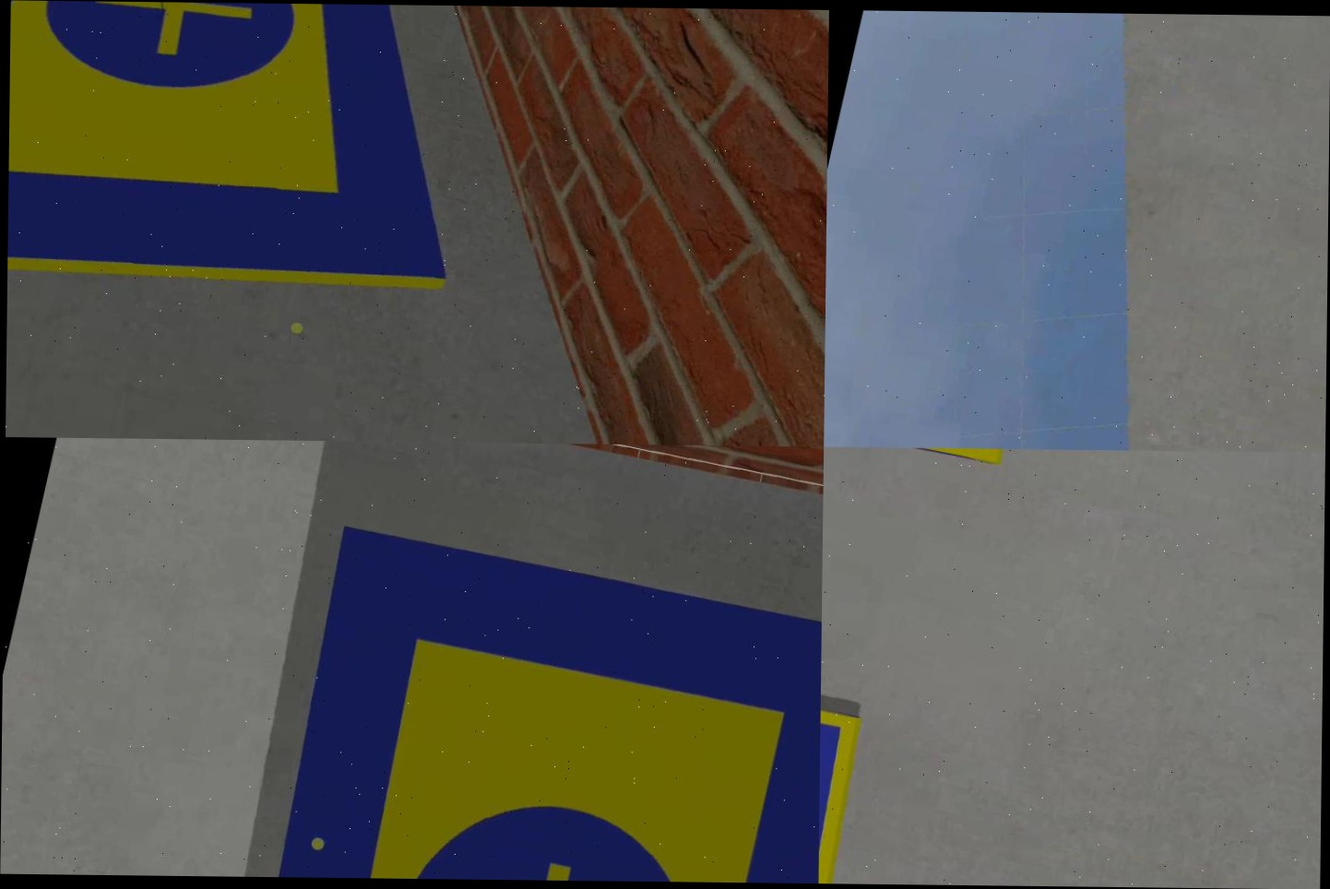large_base: (229, 516, 823, 883), (6, 0, 532, 398)
small_base: (818, 673, 871, 883)
